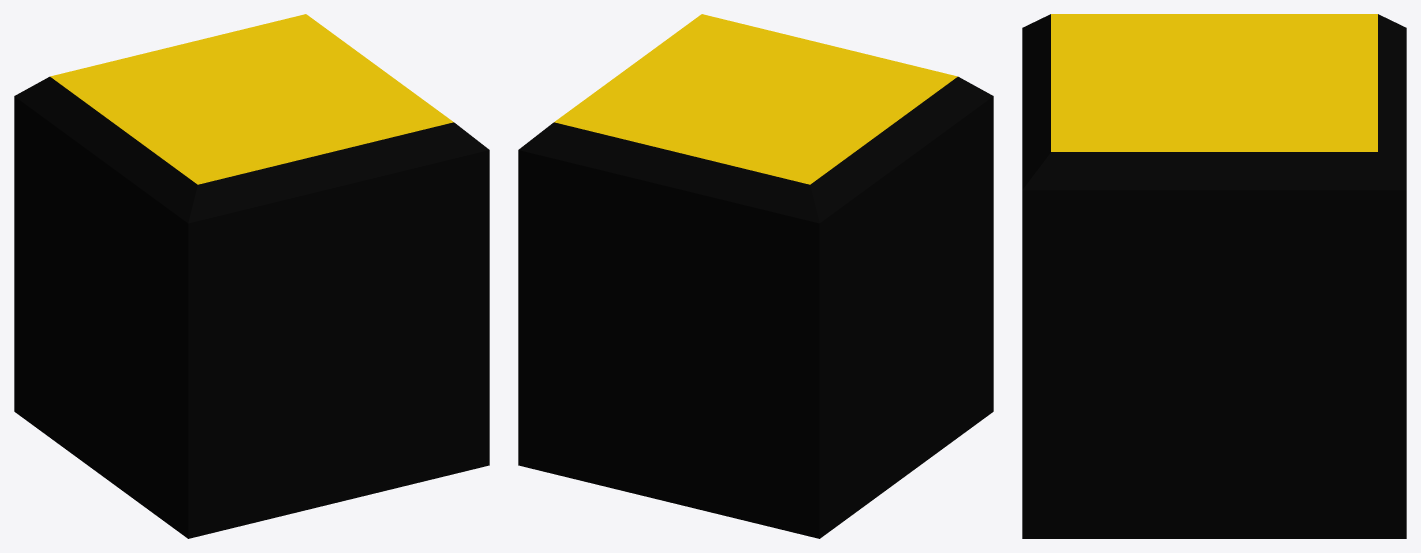
The model's file is rubiks_cube_25.glb.
The picture shows the model from 3 angles, left to right: view 1: azimuth 30°, elevation 25°; view 2: azimuth 150°, elevation 25°; view 3: azimuth 270°, elevation 25°; orthographic projection. The views are drawn at different scales.
Visible parts, largest first — view 1: Cube25.001; view 2: Cube25.001; view 3: Cube25.001.
Boxes of the visible parts, x1,y1,x2,y2 form: Cube25.001: [14, 14, 489, 538]; Cube25.001: [518, 14, 993, 538]; Cube25.001: [1022, 14, 1406, 538].
Bounding box in the file's own units: 2 × 2.15 × 2.
